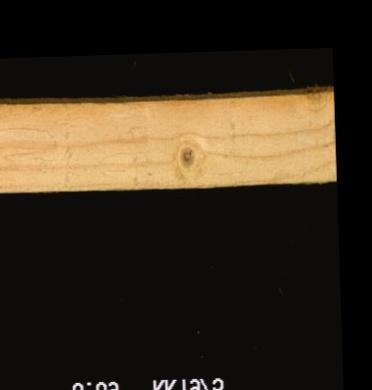sound_knot: (176, 143, 198, 169)
